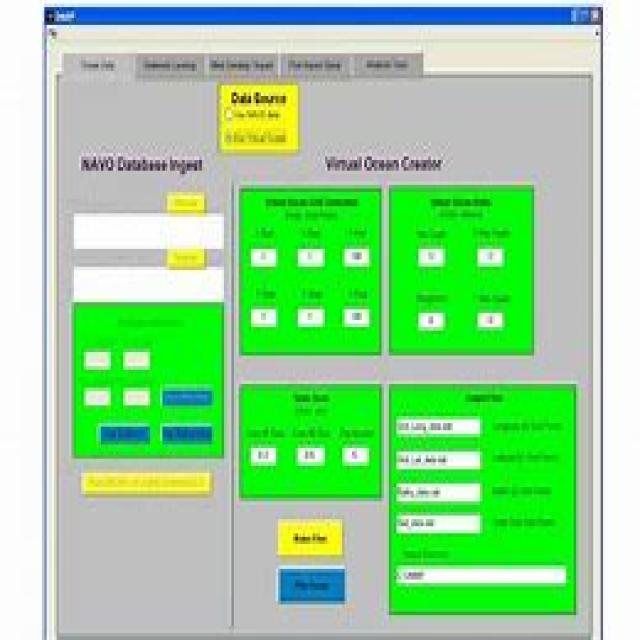button: (78, 468, 214, 499), (275, 516, 347, 560), (276, 565, 348, 606), (99, 425, 152, 448), (160, 424, 214, 446), (160, 387, 213, 408), (590, 8, 602, 23), (580, 8, 589, 22), (570, 8, 578, 22)
icon: (45, 6, 56, 24)
input: (72, 208, 226, 251), (71, 264, 226, 304), (394, 560, 568, 590), (395, 479, 483, 506), (395, 512, 484, 538), (395, 448, 481, 473), (394, 415, 481, 438), (81, 383, 114, 414), (294, 242, 328, 272), (120, 346, 154, 374), (120, 384, 154, 411), (82, 346, 114, 374), (416, 308, 450, 334), (338, 444, 372, 470), (342, 243, 372, 272), (294, 442, 326, 469), (415, 244, 448, 270), (475, 244, 506, 271), (249, 443, 279, 470), (342, 304, 372, 330), (250, 245, 280, 270), (250, 304, 277, 330), (295, 306, 324, 330), (475, 309, 505, 332)
label: (79, 149, 205, 178), (323, 154, 444, 177), (264, 195, 360, 222), (430, 197, 493, 221), (490, 480, 554, 500), (115, 315, 188, 332), (493, 514, 558, 530), (491, 420, 564, 434), (492, 450, 560, 465), (290, 392, 330, 417), (230, 91, 287, 108), (462, 391, 508, 407), (234, 130, 289, 143), (245, 425, 286, 441), (337, 425, 376, 441), (472, 291, 513, 306), (414, 287, 451, 303), (292, 425, 333, 439), (471, 227, 515, 240), (235, 109, 283, 120), (414, 228, 450, 241), (299, 284, 326, 301), (346, 285, 374, 301), (251, 286, 280, 300), (298, 226, 326, 240), (344, 225, 369, 240), (253, 225, 278, 240)
radio: (224, 127, 232, 146), (224, 106, 234, 120)
tabControl: (53, 48, 429, 80)
